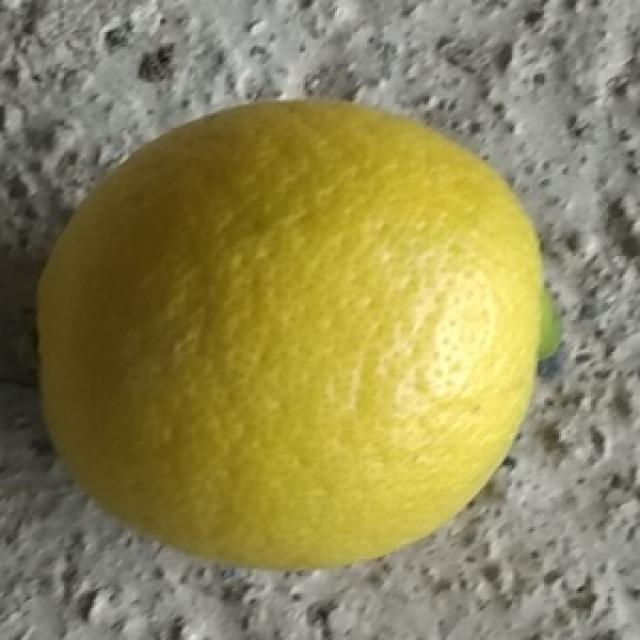Ripe: (38, 91, 564, 576)
